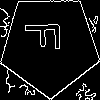F: (24, 20, 69, 52)
